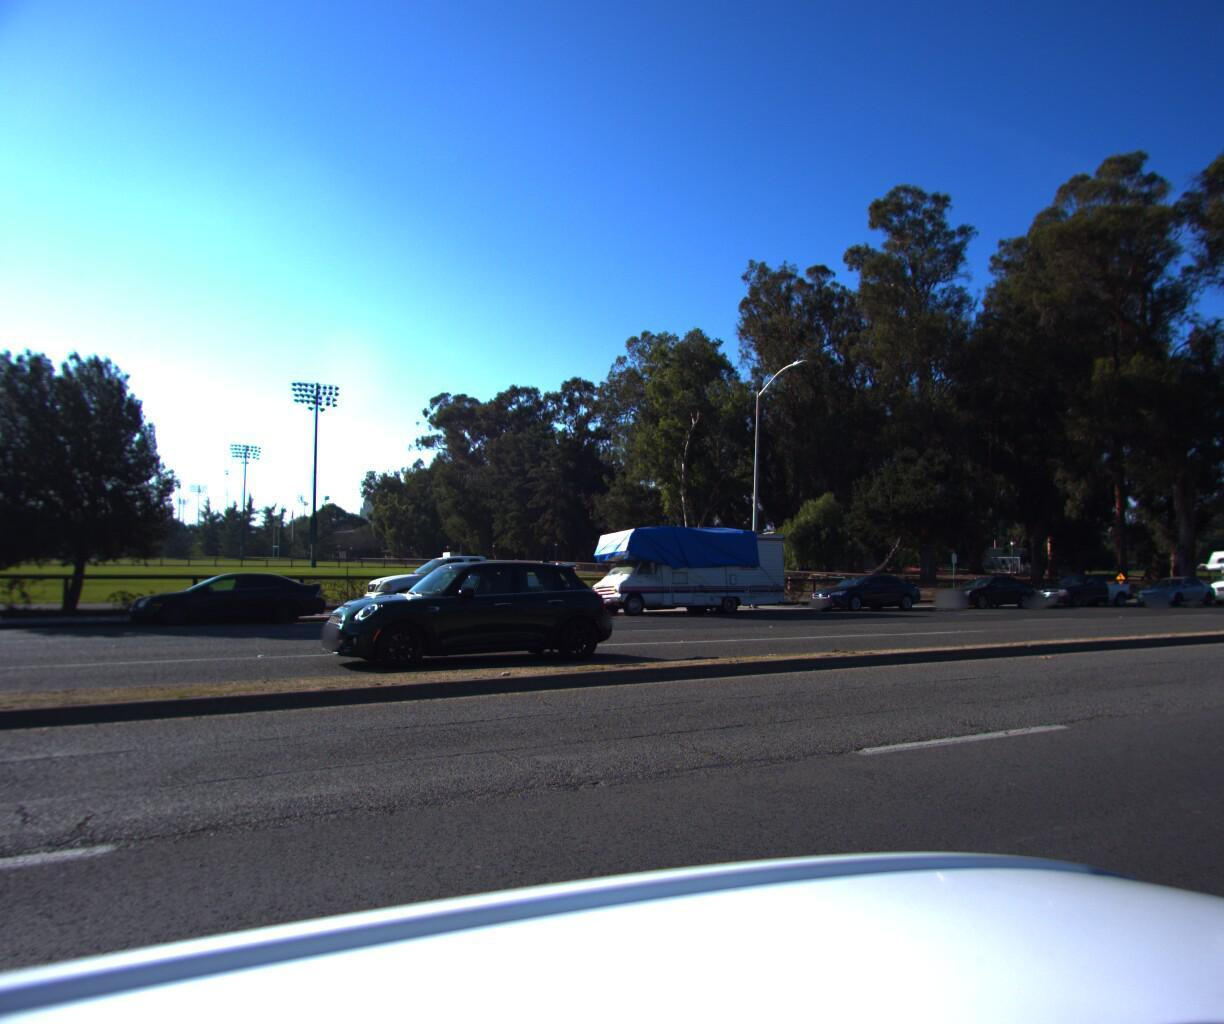car: (311, 556, 618, 681), (351, 548, 567, 628), (119, 574, 331, 636), (799, 573, 928, 615), (927, 573, 1041, 612), (1027, 571, 1137, 610), (1125, 574, 1217, 607)
other_vehicle: (578, 516, 797, 622), (1187, 534, 1224, 605)
